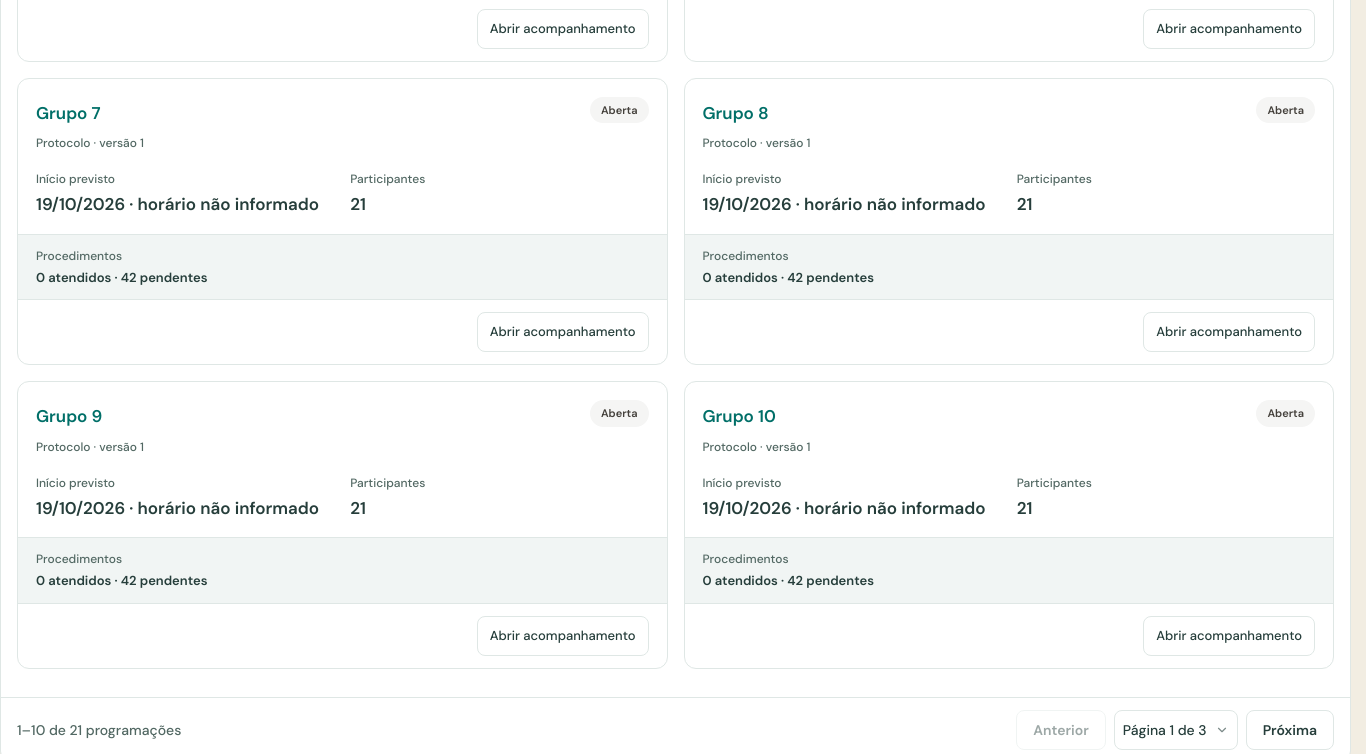
Test: lista, detalhe e gestão usam API comum paginada no sítio consultado, sem baixar array legado
(page scrolled)
Expected: the link "Grupo 11" is not shown
Step 1. Click the button "Próxima" → (1290, 730), box [1246,710,1334,750]
(page scrolled)
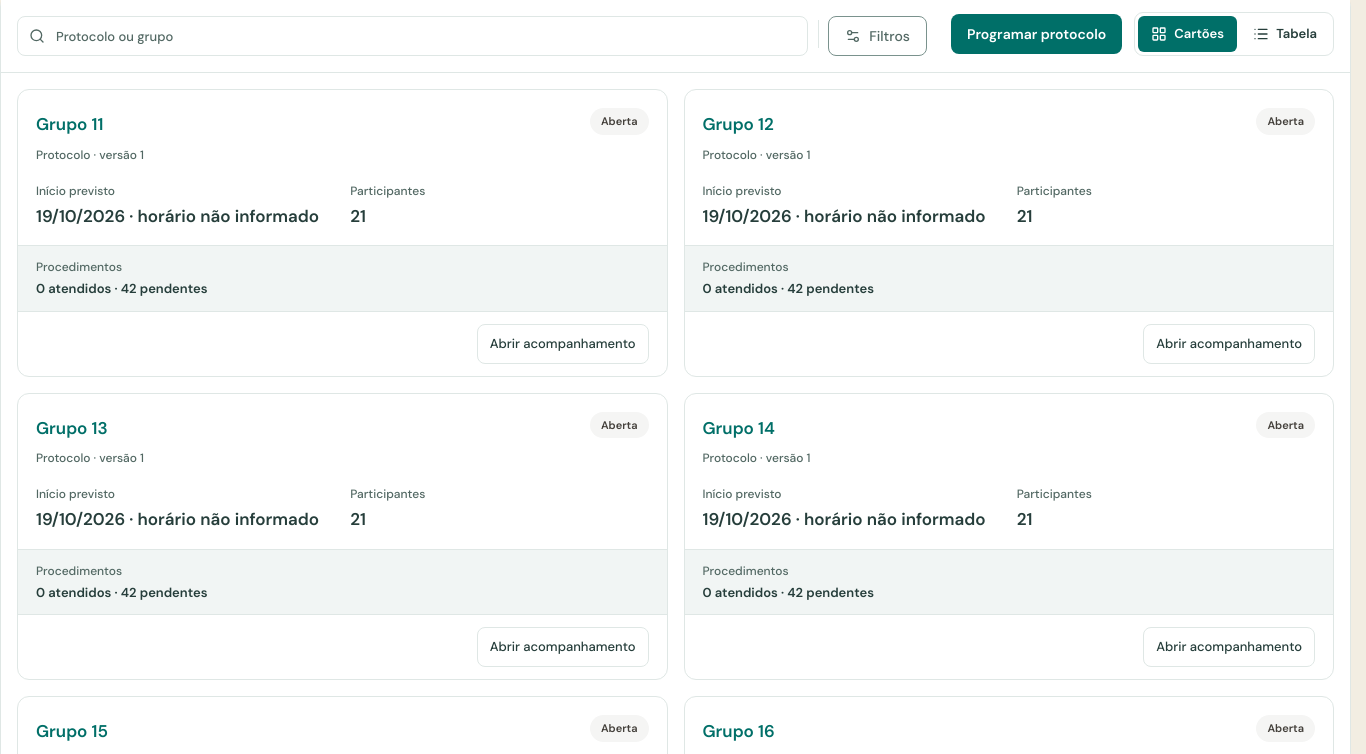
Step 2. Click the link "Grupo 11" → (70, 124), box [36,113,103,135]
(page scrolled)
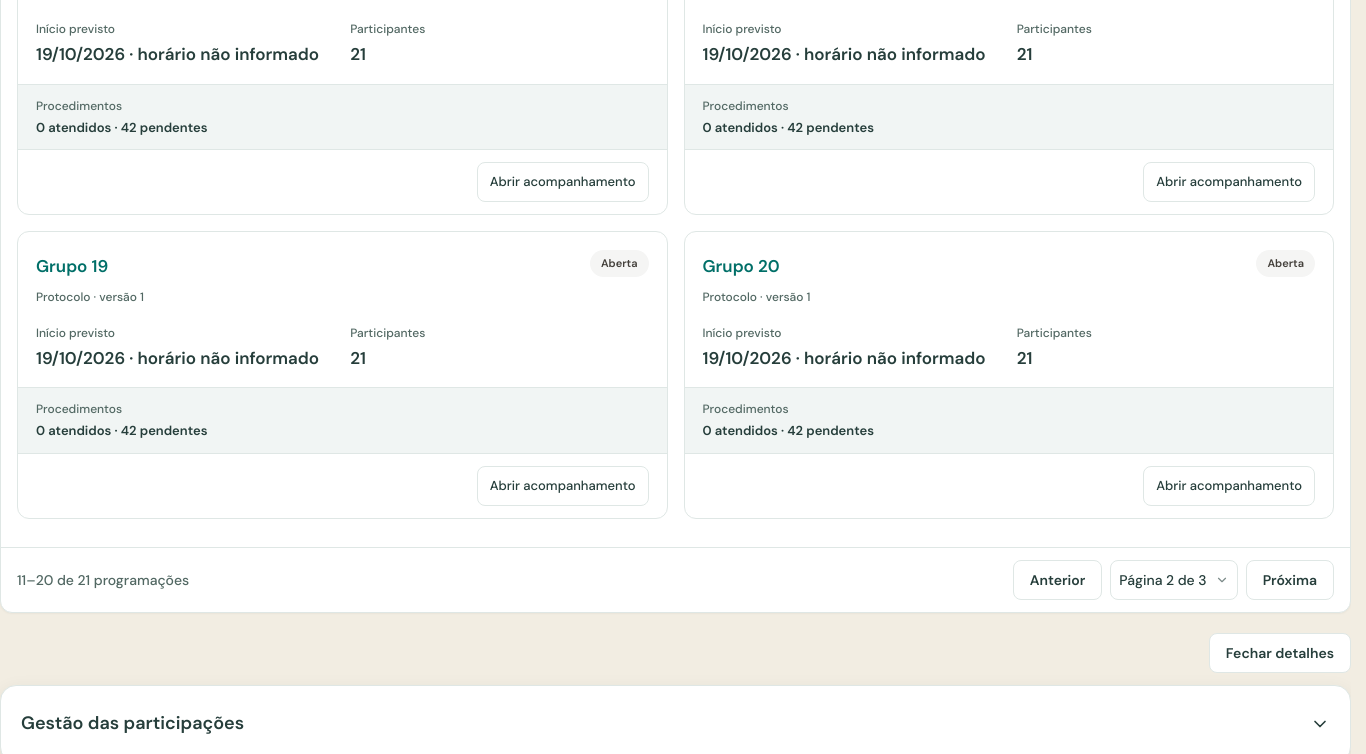
Step 3. Click the button "Gestão das participações" → (133, 723), box [21,702,1330,746]
(page scrolled)
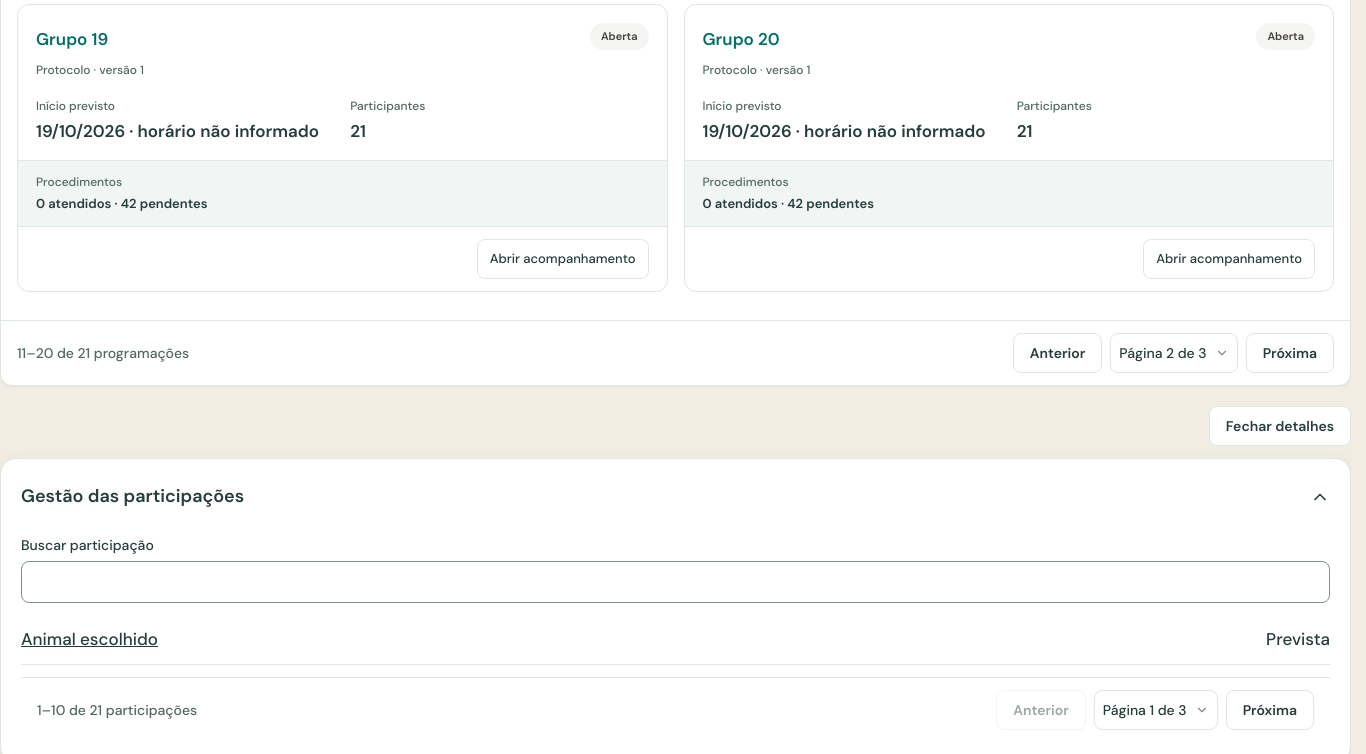
Result: the link "Animal escolhido" is shown at [21,626,158,652]
